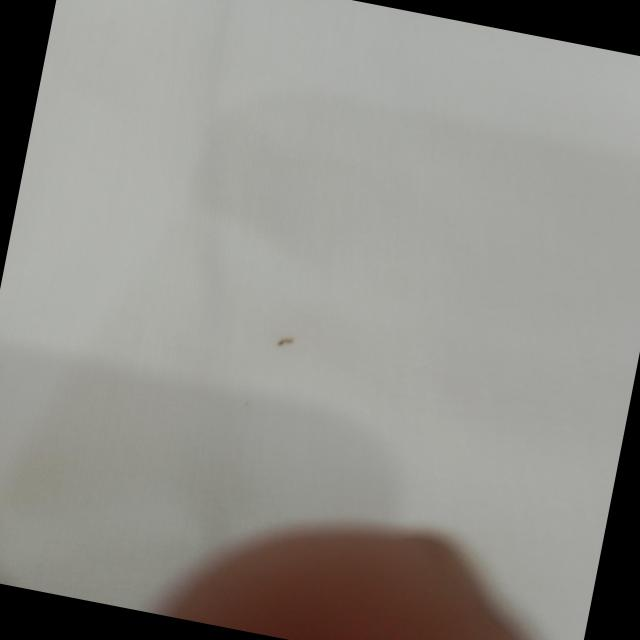stain: (261, 321, 314, 356)
